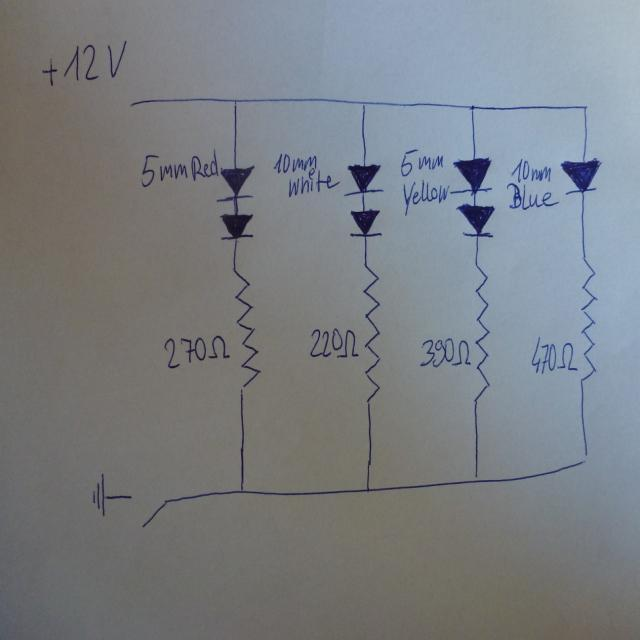diode: (448, 154, 496, 196), (215, 163, 256, 204), (342, 160, 385, 198), (454, 201, 496, 239), (560, 158, 602, 196), (218, 211, 255, 242), (348, 207, 383, 239)
ground: (90, 470, 110, 518)
junction: (576, 445, 592, 470), (467, 466, 484, 487), (233, 479, 248, 501), (362, 482, 373, 496), (230, 96, 240, 108), (468, 102, 477, 113), (359, 99, 368, 109), (580, 102, 588, 113)
resistor: (233, 268, 262, 394), (362, 256, 383, 404), (578, 244, 600, 385), (474, 253, 491, 397)
switch: (127, 491, 168, 529)
terminal: (125, 96, 139, 113)
text: (37, 34, 129, 92), (139, 147, 219, 189), (162, 332, 229, 369), (528, 338, 578, 379), (309, 326, 362, 364), (420, 336, 473, 372), (286, 166, 341, 197), (401, 172, 449, 207), (506, 181, 560, 210), (400, 149, 446, 182), (509, 156, 552, 183), (271, 151, 317, 174)
